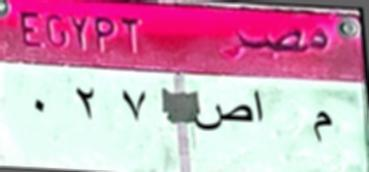0: (24, 91, 58, 124)
2: (68, 86, 104, 125)
7: (120, 86, 150, 128)
alif: (254, 90, 270, 123)
meem: (300, 108, 338, 154)
saad: (194, 101, 254, 138)
